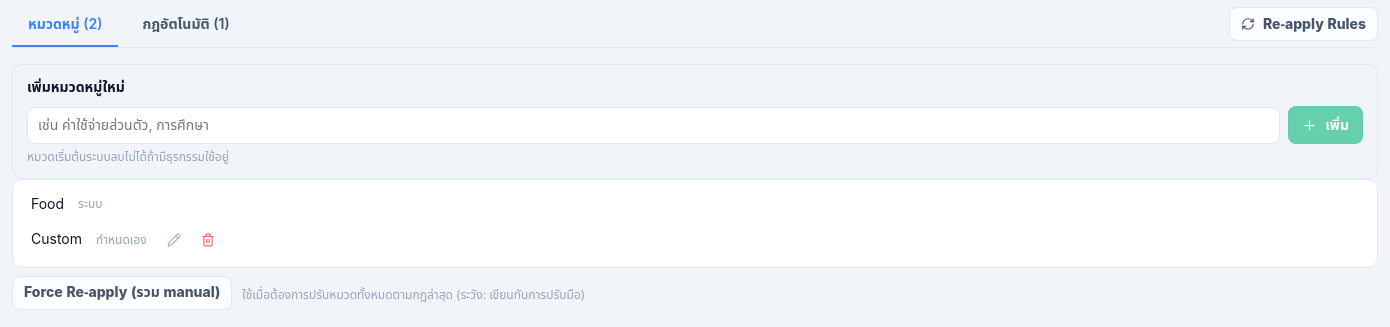
Test: CategoryManager › renders categories and rules correctly
This screenshot has width=1390, height=327.
Expected: the text "Food" is shown, left=31, top=194, right=64, bottom=215
Expected: the text "Custom" is shown, left=31, top=229, right=82, bottom=250
Switch to auto-rules tab to view rule items
Click the button "กฎอัตโนมัติ (1)" at point(186, 26), box left=126, top=4, right=246, bottom=47
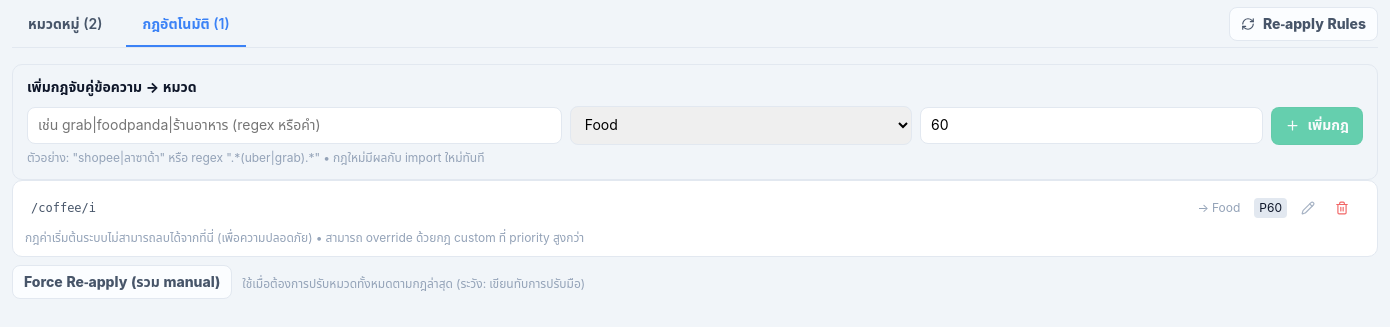
Now the text titled "coffee" is shown, box left=31, top=201, right=96, bottom=215
